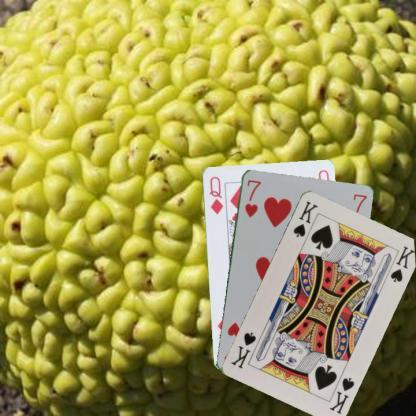7h: (242, 176, 262, 218)
Ks: (326, 374, 356, 415), (290, 198, 320, 238)
Qd: (206, 174, 224, 216)
